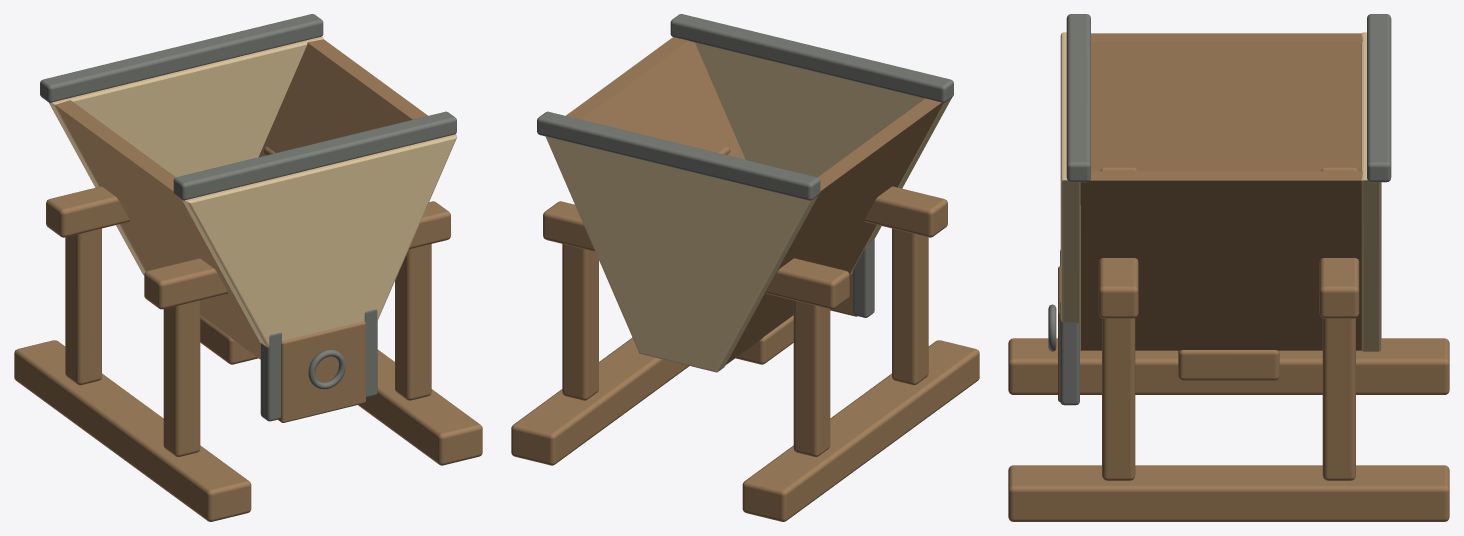
The model's file is meal-collection-bin.glb.
The picture shows the model from 3 angles, left to right: view 1: azimuth 30°, elevation 25°; view 2: azimuth 150°, elevation 25°; view 3: azimuth 270°, elevation 25°; orthographic projection. The views are drawn at different scales.
Visible parts, largest first — view 1: meal-collection-bin; view 2: meal-collection-bin; view 3: meal-collection-bin.
Part boxes in pixels (bbox=[...]): meal-collection-bin: bbox=[14, 14, 482, 521]; meal-collection-bin: bbox=[511, 14, 979, 521]; meal-collection-bin: bbox=[1008, 14, 1449, 521].
Bounding box in the file's own units: 0.86 × 0.9 × 1.
